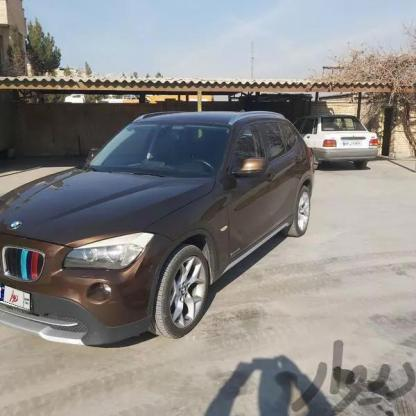Car: (0, 112, 325, 345), (287, 110, 390, 174)
